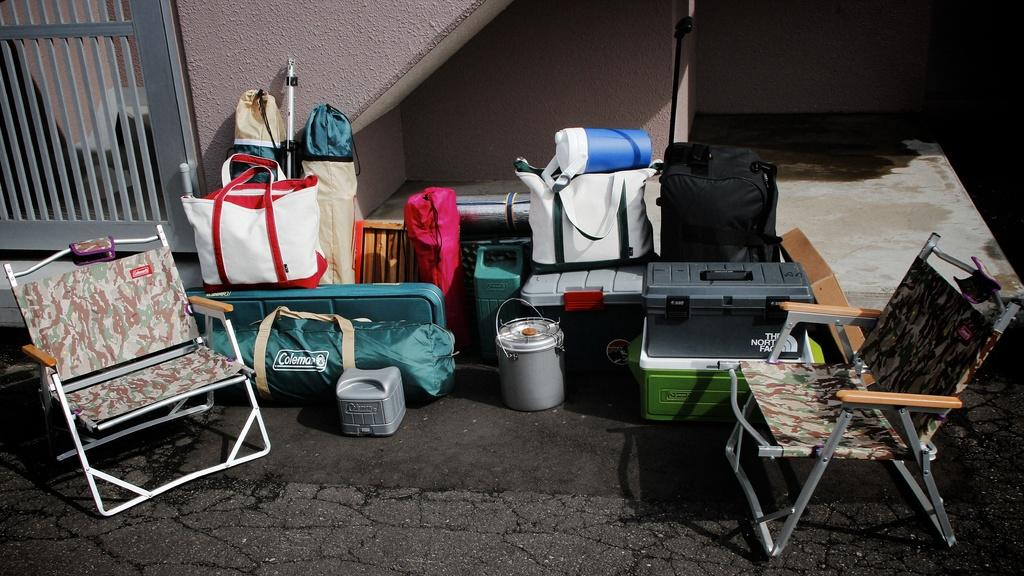Chair: (724, 229, 1023, 557), (20, 238, 260, 514)
